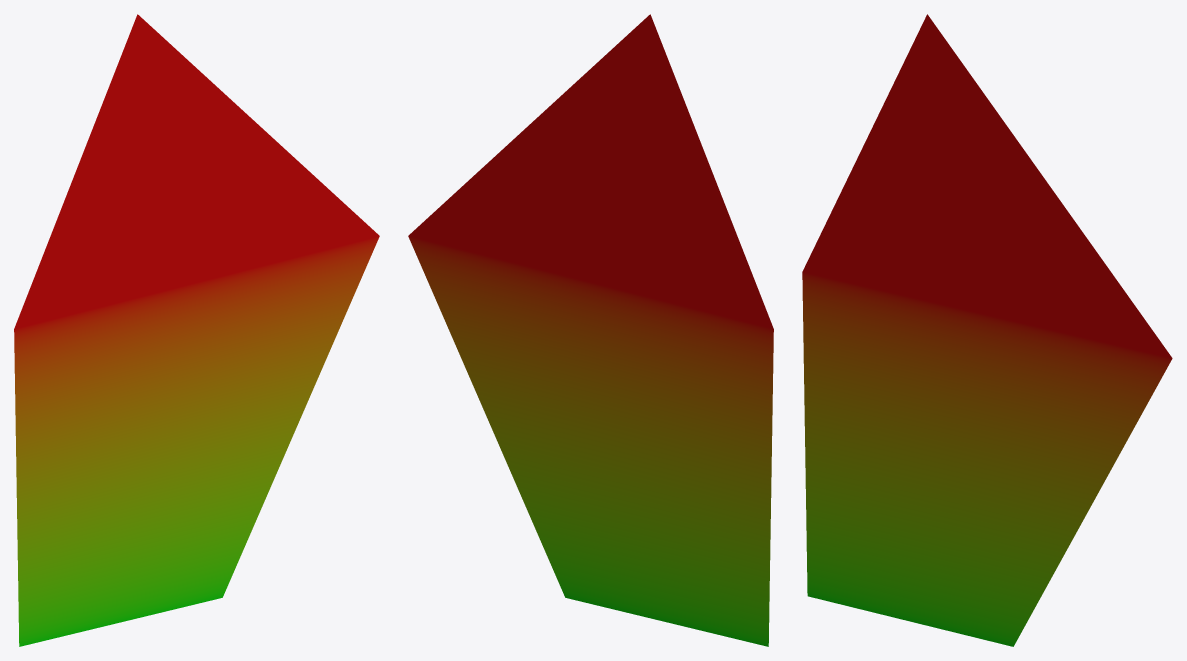
The model's file is Var1_LOD3.fbx.
3 views of the same model, side by side, from view 1: azimuth 30°, elevation 25°; view 2: azimuth 150°, elevation 25°; view 3: azimuth 330°, elevation 25° (orthographic).
Visible parts, largest first — view 1: _b9e2_Var1_LOD3; view 2: _b9e2_Var1_LOD3; view 3: _b9e2_Var1_LOD3.
Part boxes in pixels (x1,y1,x2,y2): _b9e2_Var1_LOD3: (14,14,379,646); _b9e2_Var1_LOD3: (408,14,773,646); _b9e2_Var1_LOD3: (802,14,1172,646).
Bounding box in the file's own units: 35.01 × 55.29 × 7.69e-06.
